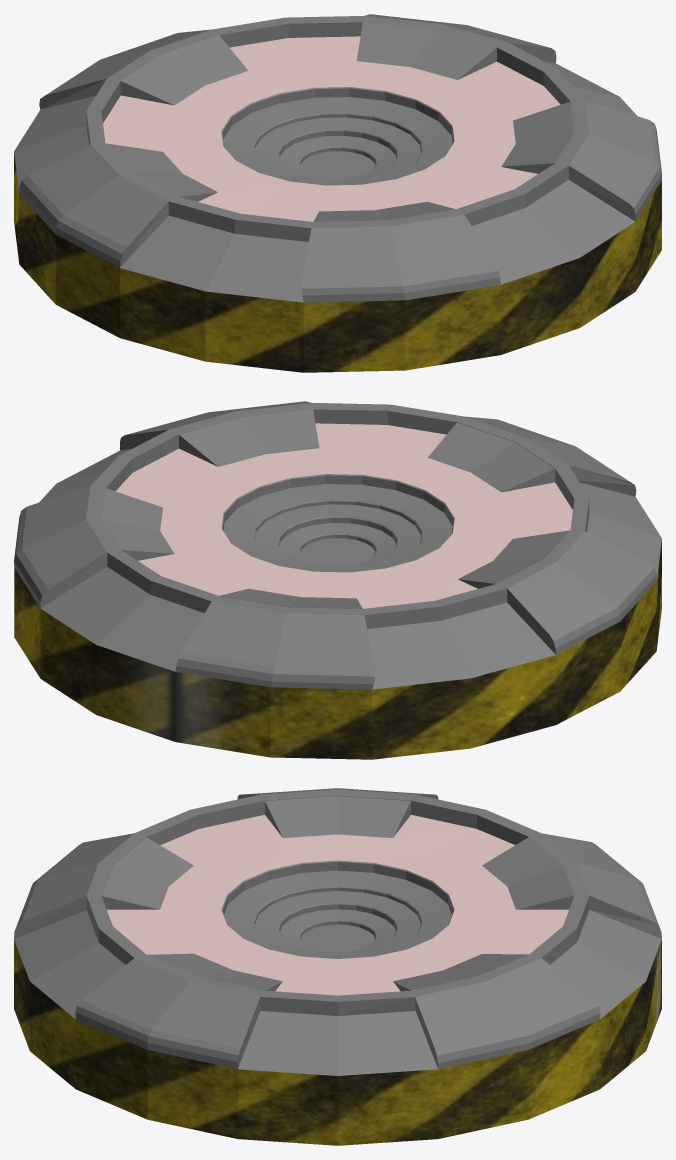
Rendered from LaunchPad 1.fbx.
3 renders of one model, top to bottom at view 1: azimuth 30°, elevation 25°; view 2: azimuth 150°, elevation 25°; view 3: azimuth 270°, elevation 25°, orthographic.
Parts seen in each view (by area): view 1: pCylinder1; view 2: pCylinder1; view 3: pCylinder1.
Boxes of the visible parts, left/top/right/bottom form: pCylinder1: left=14, top=14, right=661, bottom=372; pCylinder1: left=14, top=401, right=661, bottom=759; pCylinder1: left=14, top=788, right=661, bottom=1145.
Size of the model in its own units: 4.52 by 0.8735 by 4.52.
3 materials, 1 textured.
